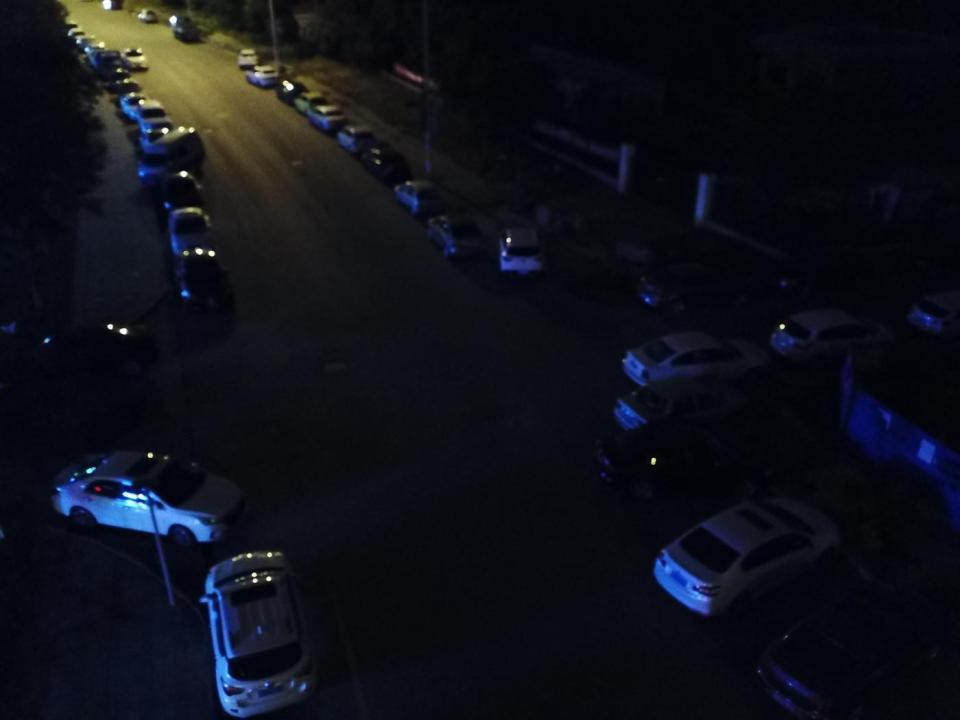car: (756, 583, 957, 715), (650, 494, 846, 622), (191, 544, 323, 720), (48, 440, 252, 546), (592, 416, 780, 498), (617, 326, 770, 398), (610, 372, 753, 449), (16, 320, 163, 379), (773, 304, 900, 369), (634, 261, 766, 316), (174, 245, 236, 317), (493, 221, 550, 276), (430, 213, 491, 261), (167, 206, 219, 261), (156, 166, 206, 220), (394, 175, 445, 214), (361, 145, 411, 180), (135, 97, 172, 135), (308, 100, 349, 132), (137, 127, 176, 159), (336, 125, 376, 155), (291, 88, 328, 116), (244, 63, 281, 89), (118, 88, 150, 118), (121, 43, 150, 71), (278, 80, 312, 102), (110, 70, 137, 96), (237, 48, 258, 70), (73, 34, 98, 52), (84, 43, 106, 60), (66, 28, 86, 44), (138, 8, 156, 23)
truck: (170, 12, 206, 42)
van: (138, 126, 206, 187)
